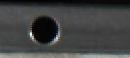holes: (29, 13, 60, 45)
